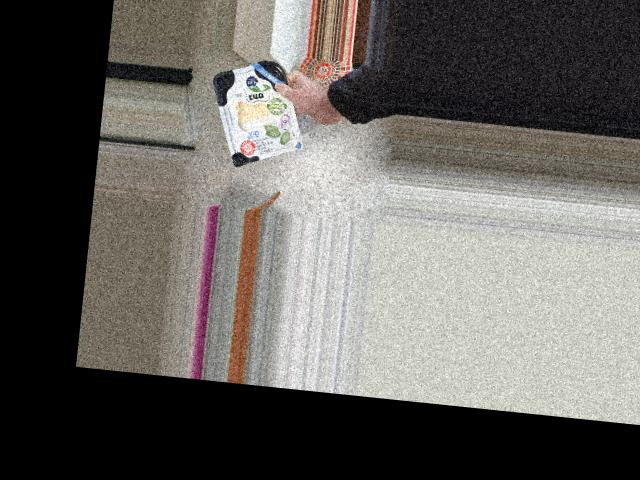cheese: (223, 69, 300, 161)
